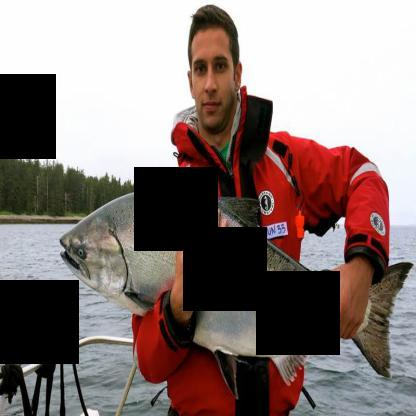fish: (59, 188, 413, 376)
